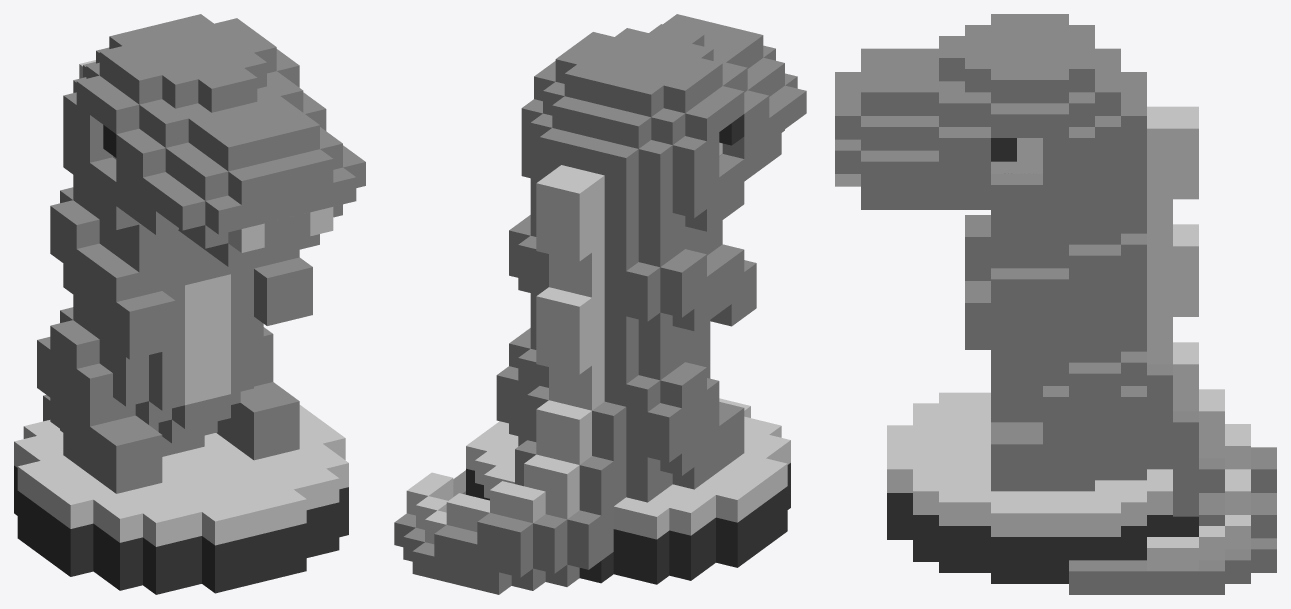
The model's file is fbx_turret.fbx.
3 views of the same model, side by side, from view 1: azimuth 30°, elevation 25°; view 2: azimuth 150°, elevation 25°; view 3: azimuth 270°, elevation 25° (orthographic). The views are drawn at different scales.
Visible parts, largest first — view 1: turret_body1; view 2: turret_body1; view 3: turret_body1.
Boxes of the visible parts, left/top/right/bottom form: turret_body1: left=14, top=14, right=365, bottom=594; turret_body1: left=394, top=14, right=806, bottom=594; turret_body1: left=835, top=14, right=1276, bottom=594.
Size of the model in its own units: 13 by 20 by 17.
